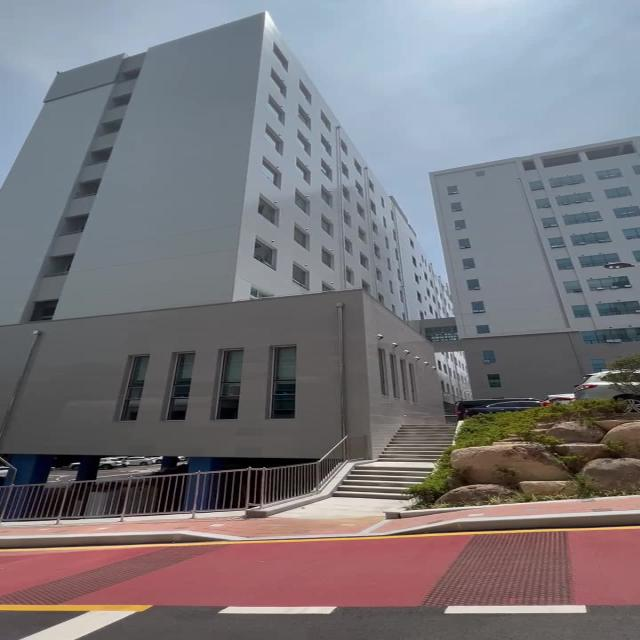building: (36, 32, 466, 503)
